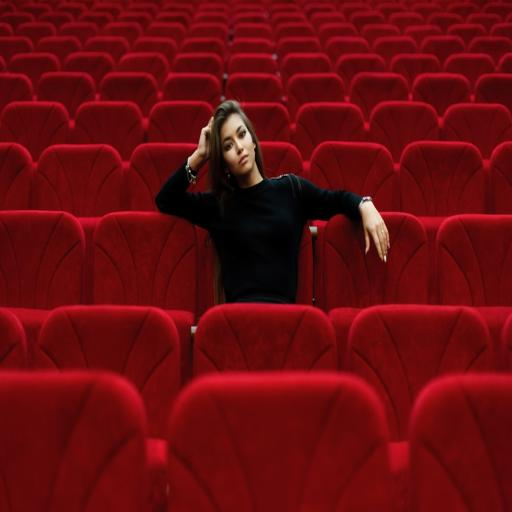face: (221, 117, 254, 179)
